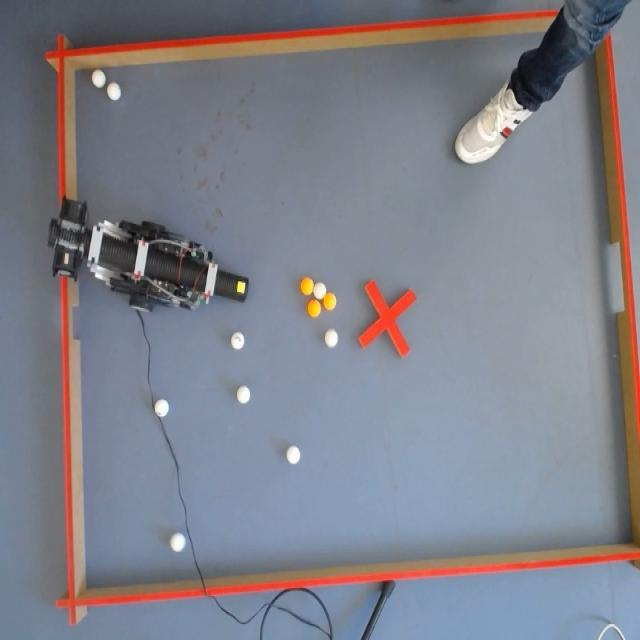orange-golf-balls: (300, 277, 314, 295), (308, 300, 321, 318), (324, 293, 336, 310)
robot: (48, 199, 248, 313)
robot-front: (216, 271, 248, 301)
white-golf-balls: (170, 532, 186, 552), (107, 82, 121, 101), (92, 70, 106, 88), (155, 400, 169, 418), (237, 386, 251, 404), (286, 446, 300, 464), (325, 329, 338, 348), (231, 332, 244, 350), (314, 282, 326, 298)
